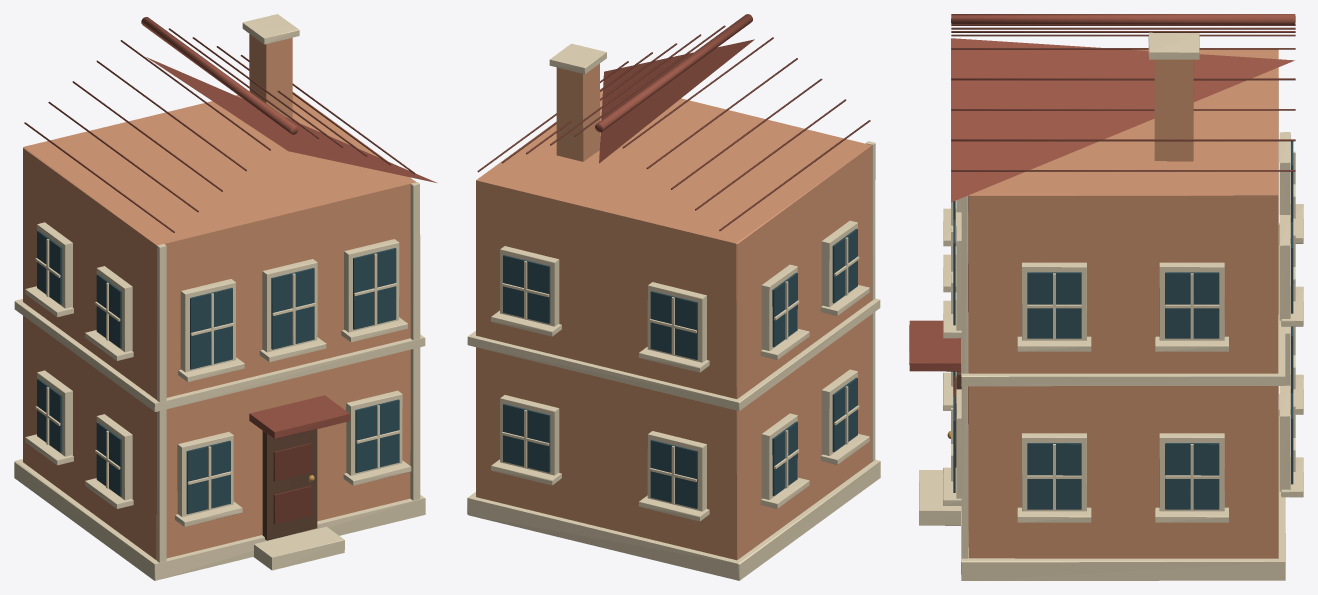
Rendered from house_townhouse_low.glb.
The picture shows the model from 3 angles, left to right: view 1: azimuth 30°, elevation 25°; view 2: azimuth 150°, elevation 25°; view 3: azimuth 270°, elevation 25°; orthographic projection. The views are drawn at different scales.
Parts seen in each view (by area): view 1: Plaster walls.001, Foundation.001, Floor cornice, Gabled terracotta roof.001, Front door.001, Corner trim.003, Corner trim.002, Window glass.023, Window glass.024, Window glass.022, Chimney.001, Door canopy (+29 smaller); view 2: Plaster walls.001, Foundation.001, Gabled terracotta roof.001, Floor cornice, Chimney.001, Window glass.015, Window glass.020, Window glass.021, Window glass.014, Ridge cap.001, Window surround.015, Window surround.021 (+20 smaller); view 3: Plaster walls.001, Gabled terracotta roof.001, Foundation.001, Floor cornice, Chimney.001, Ridge cap.001, Window glass.019, Window glass.013, Window glass.018, Window glass.012, Corner trim.003, Door canopy (+27 smaller).
Boxes of the visible parts, x1,y1,x2,y2 form: Plaster walls.001: (23,91,416,560); Foundation.001: (14,459,425,580); Floor cornice: (14,299,425,411); Gabled terracotta roof.001: (146,57,437,183); Front door.001: (262,429,317,540); Corner trim.003: (410,182,420,500); Corner trim.002: (157,244,166,562); Window glass.023: (271,268,314,349); Window glass.024: (353,248,396,329); Window glass.022: (190,288,232,369); Chimney.001: (249,34,292,119); Door canopy: (249,395,350,439); Plaster walls.001: (476,87,871,560); Foundation.001: (467,459,880,580); Gabled terracotta roof.001: (599,39,754,163); Floor cornice: (467,298,880,410); Chimney.001: (556,63,599,161); Window glass.015: (503,404,550,472); Window glass.020: (650,291,697,359); Window glass.021: (503,255,550,323); Window glass.014: (650,440,697,508); Ridge cap.001: (595,14,752,132); Window surround.015: (500,395,559,475); Window surround.021: (500,246,559,326); Plaster walls.001: (968,49,1278,558); Gabled terracotta roof.001: (951,38,1294,202); Foundation.001: (961,409,1285,580); Floor cornice: (961,224,1285,386); Chimney.001: (1154,59,1193,161); Ridge cap.001: (951,14,1295,24); Window glass.019: (1165,272,1219,338); Window glass.013: (1165,443,1219,509); Window glass.018: (1027,272,1081,338); Window glass.012: (1027,443,1081,509); Corner trim.003: (961,195,968,558); Door canopy: (909,320,961,371).
Size of the model in its own units: 5.47 by 7.67 by 5.44.
